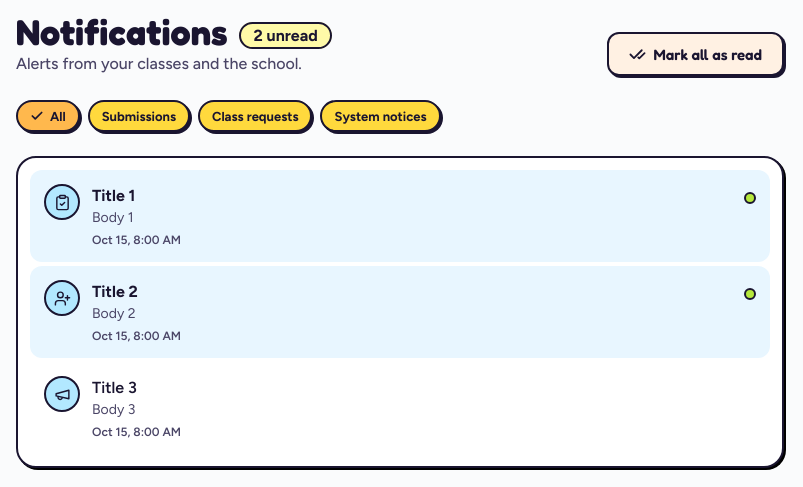
Test: NotificationsPage (TC-28) › shows the unread badge and filters by category
The width and height of the screenshot is (803, 487).
Expected: the text with test id "unread-badge" reads "2 unread", [240,22,332,49]
Click the button "Submissions": click(139, 116) [90,102,188,130]
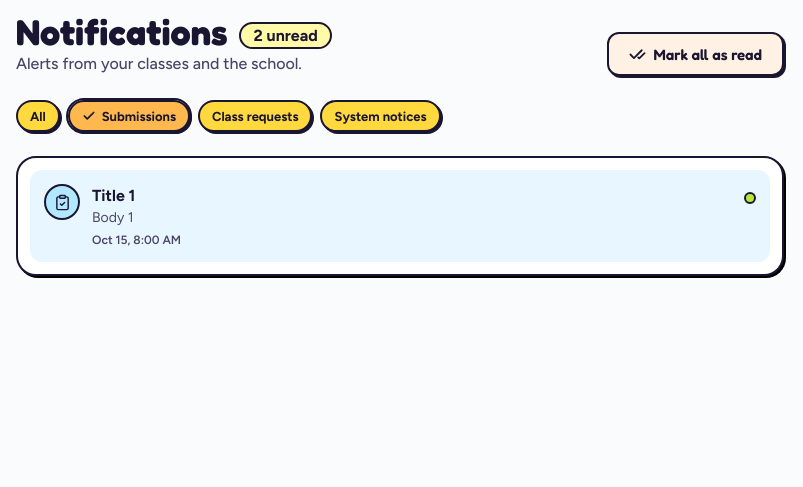
Expected: the text "Title 1" is shown, [91,185,149,205]
Result: the button "Title 2" is gone
Click the button "System notices": click(381, 116) [322,102,439,130]
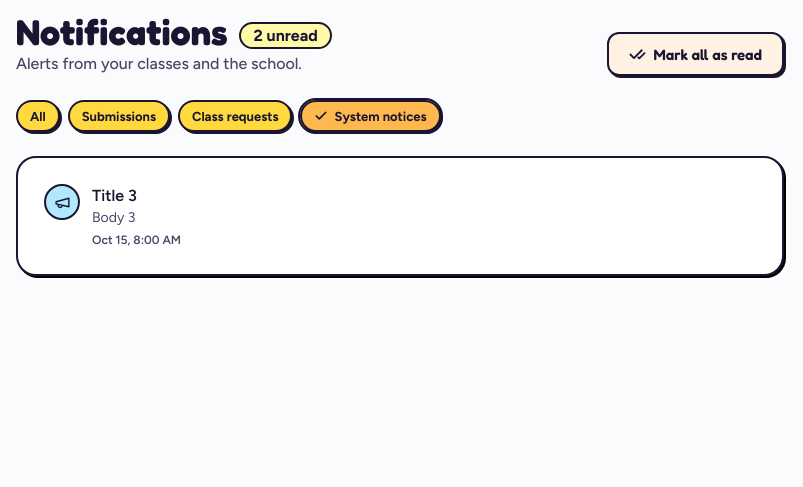
Result: the text "Title 3" is shown at [92,186,137,205]
